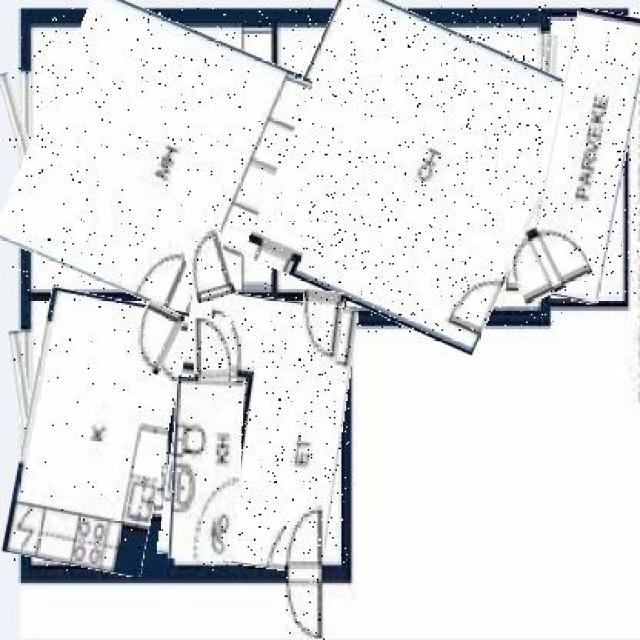door: (504, 222, 588, 302), (284, 501, 324, 640), (183, 225, 231, 303), (128, 303, 180, 374), (300, 289, 343, 363), (195, 317, 232, 385)
window: (8, 72, 44, 245), (537, 34, 557, 226), (14, 329, 35, 482)
zone: (252, 4, 565, 333), (12, 8, 292, 309), (166, 294, 351, 571), (14, 292, 178, 571), (537, 11, 638, 303), (171, 378, 240, 560)
